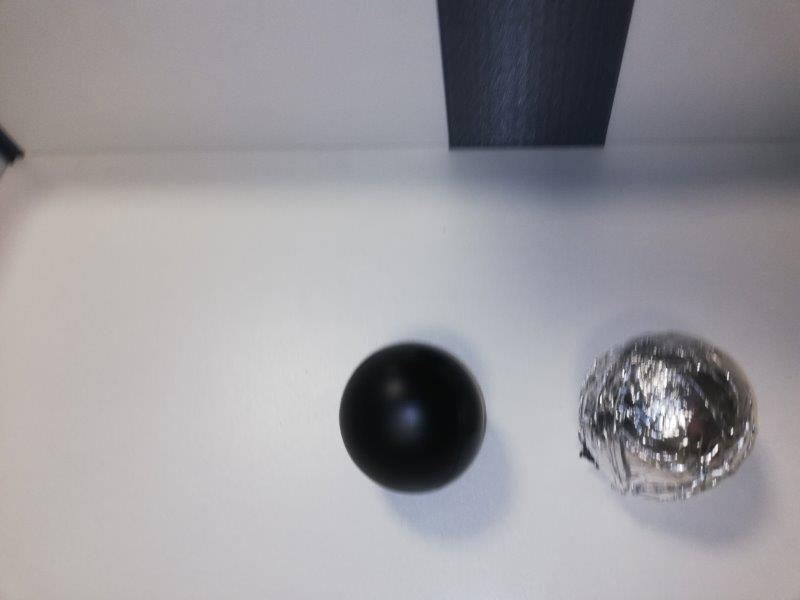bianca: (580, 327, 759, 503)
nera: (339, 343, 489, 492)
